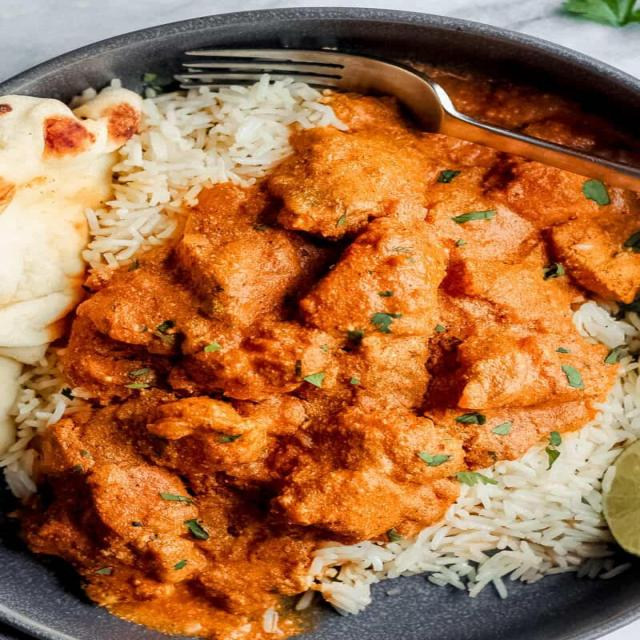chicken: (69, 120, 520, 570)
rice: (74, 94, 298, 242), (458, 447, 640, 590)
roti: (3, 90, 80, 383)
